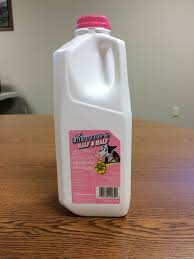milk: (53, 15, 134, 217)
